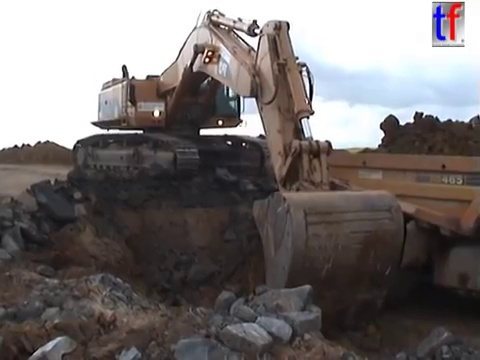excavator: (69, 6, 409, 329)
truck: (275, 146, 480, 311)
